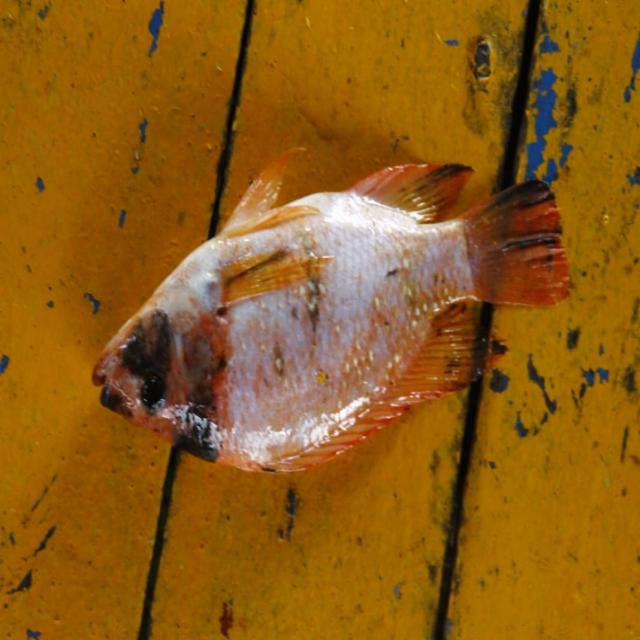ikan: (91, 146, 571, 476)
